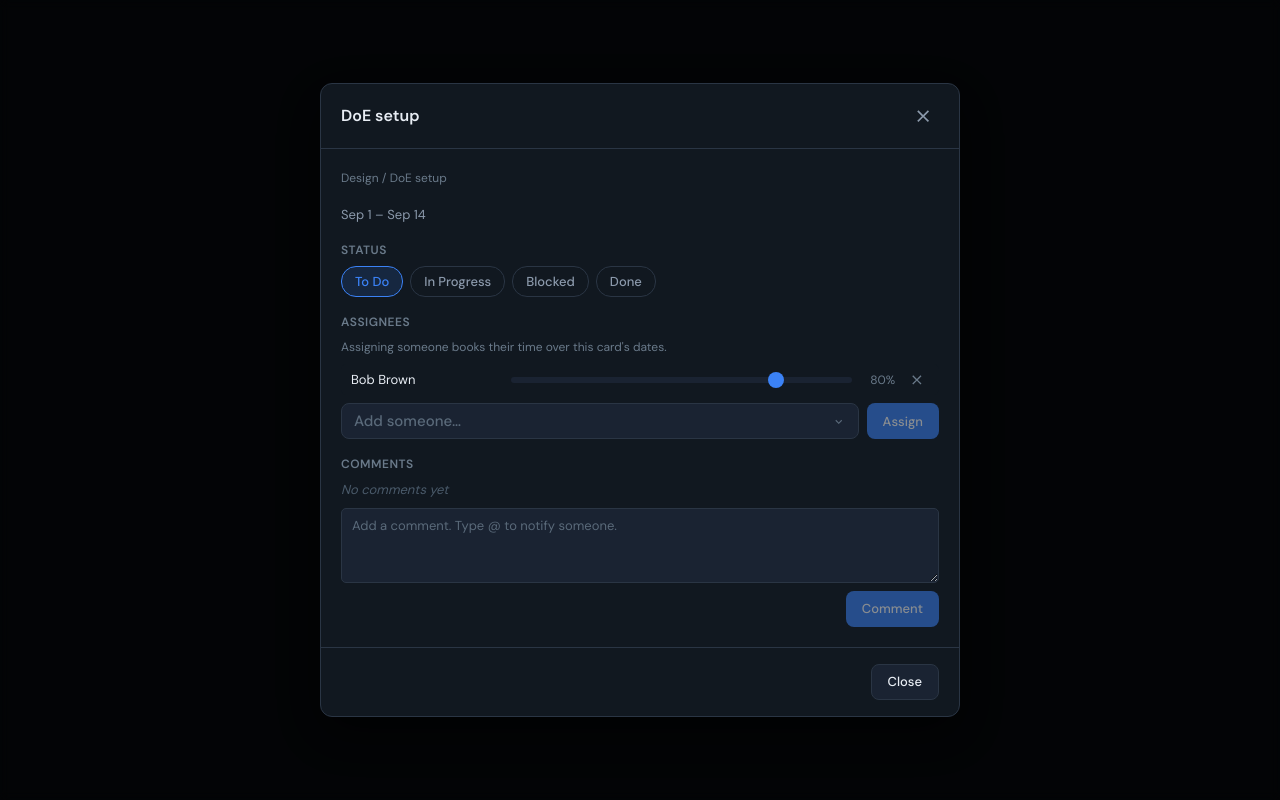
KanbanCardModal @-mentions › keeps the highlight between ArrowDown and Enter
Type "@Ali" into the text box labelled "comment" at (640, 545), box [342,509,938,582]
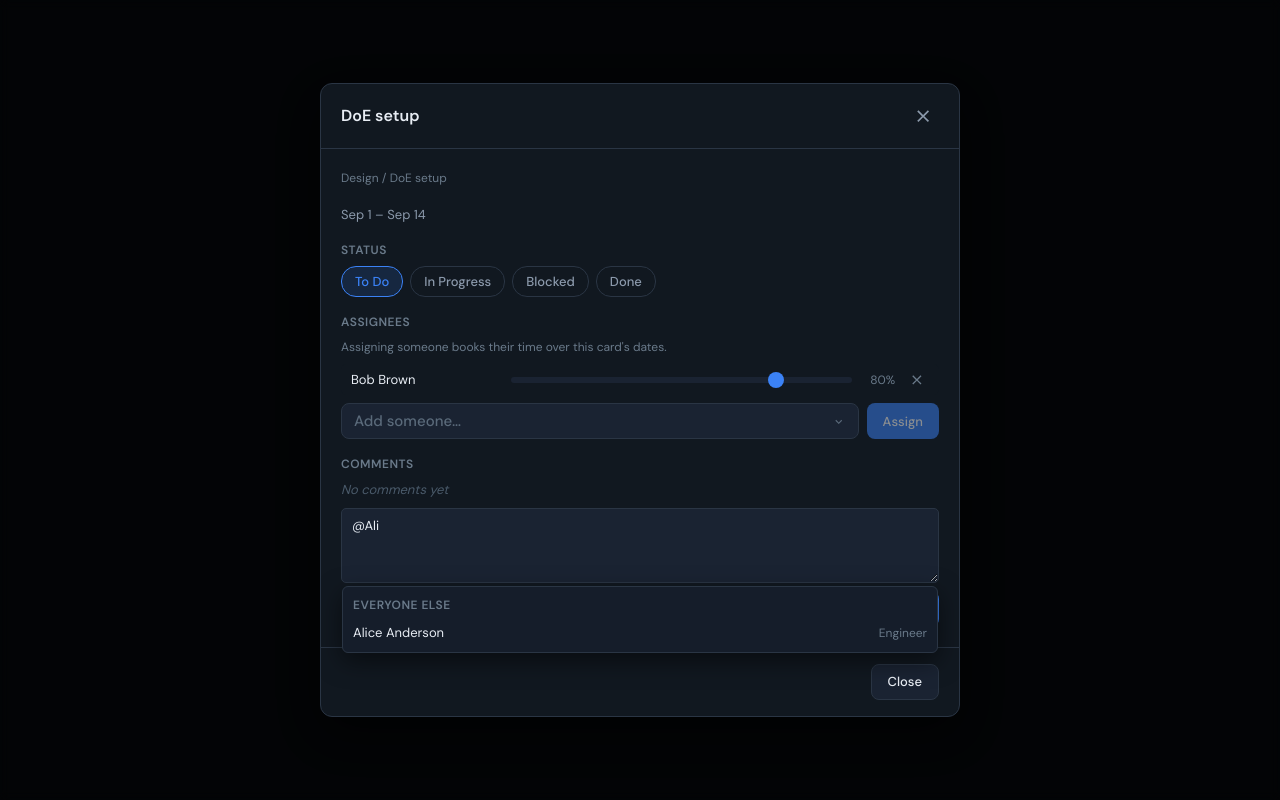
Press ArrowDown in the text box named "comment", box [342,509,938,582]
Press Enter in the text box named "comment", box [342,509,938,582]
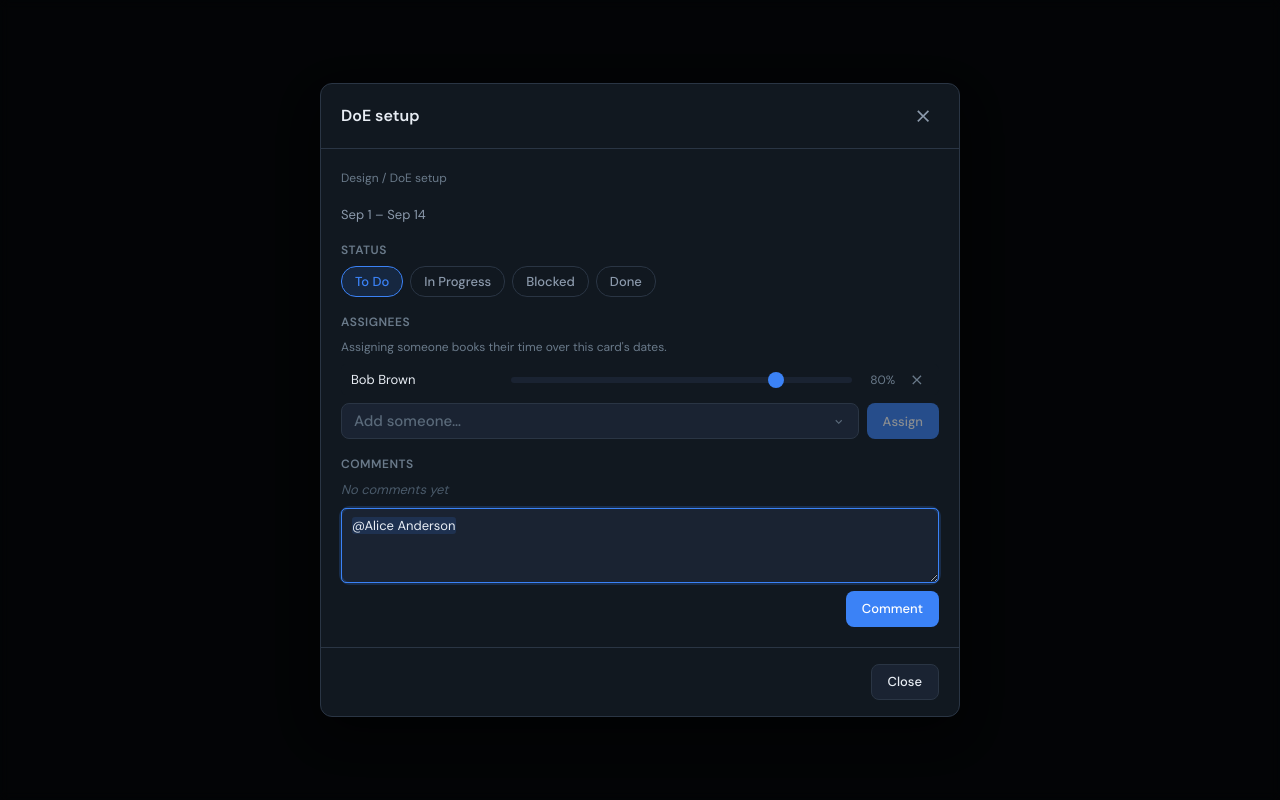
Expected: the text box named "comment" holds "@Alice Anderson ", [342,509,938,582]
